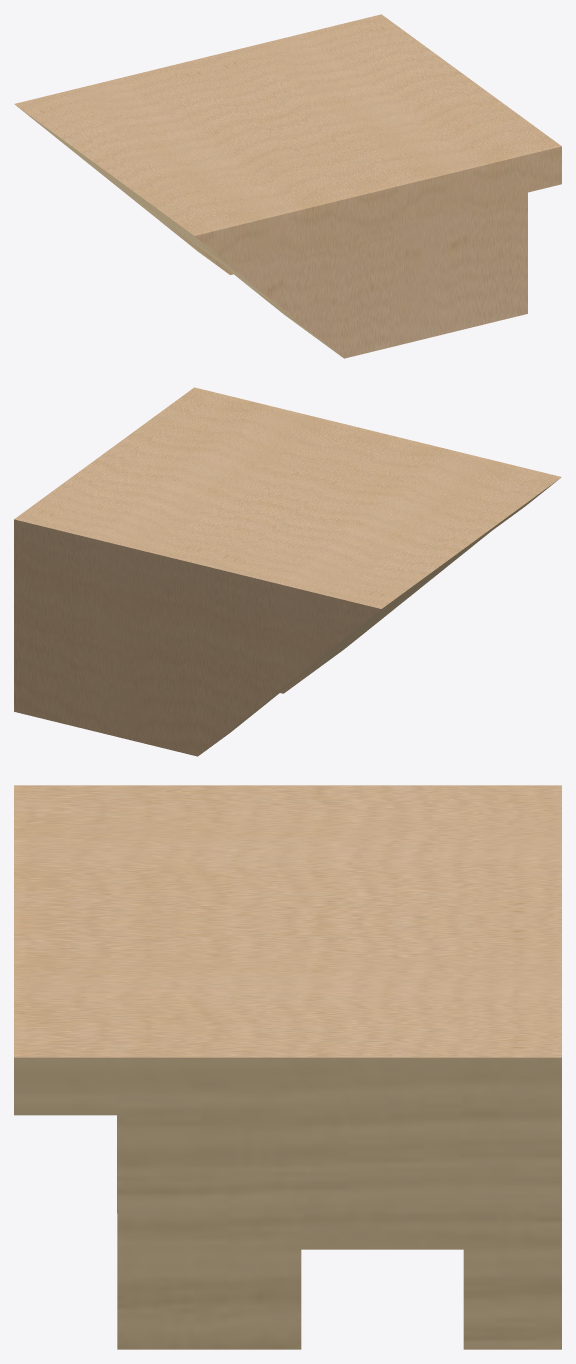
3 views of the same model, one above another, from view 1: azimuth 30°, elevation 25°; view 2: azimuth 150°, elevation 25°; view 3: azimuth 270°, elevation 25° (orthographic). The views are drawn at different scales.
Parts seen in each view (by area): view 1: middle, first; view 2: middle, first; view 3: middle, first.
Boxes of the visible parts, x1,y1,x2,y2 form: middle: (198,14,561,358); first: (14,59,378,358); middle: (14,387,377,756); first: (197,432,561,756); middle: (14,921,561,1349); first: (14,785,561,1213).
Bounding box in the file's own units: 0.04 × 0.02 × 0.034.
Materials: 2 (2 with a texture image).
